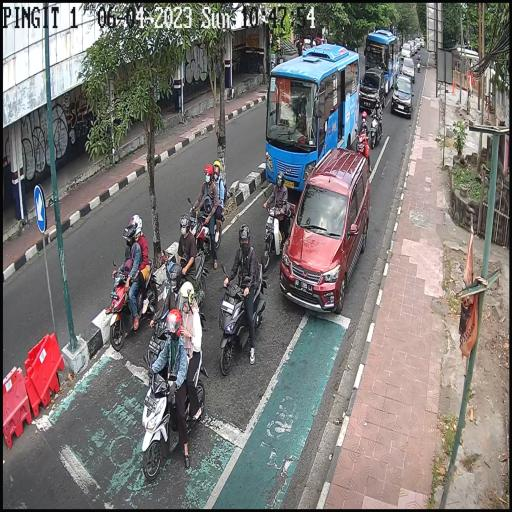mobil: (284, 149, 368, 310), (364, 32, 396, 90), (360, 69, 385, 115), (392, 77, 412, 118), (402, 56, 415, 82), (401, 43, 411, 59)
motor: (140, 356, 209, 478), (220, 264, 268, 378), (106, 260, 157, 350), (162, 248, 207, 322), (188, 198, 222, 265), (262, 192, 291, 264), (356, 129, 369, 159), (371, 113, 382, 148), (416, 58, 422, 73)
